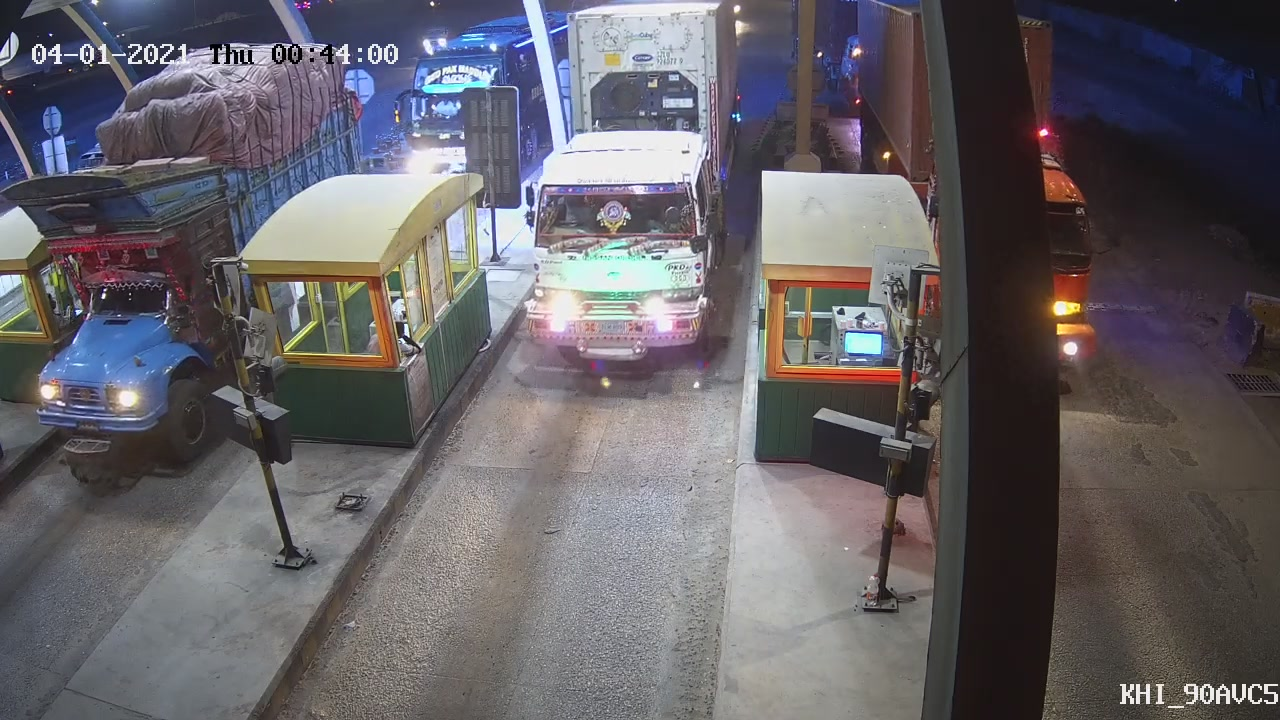F6: (530, 5, 736, 377)
